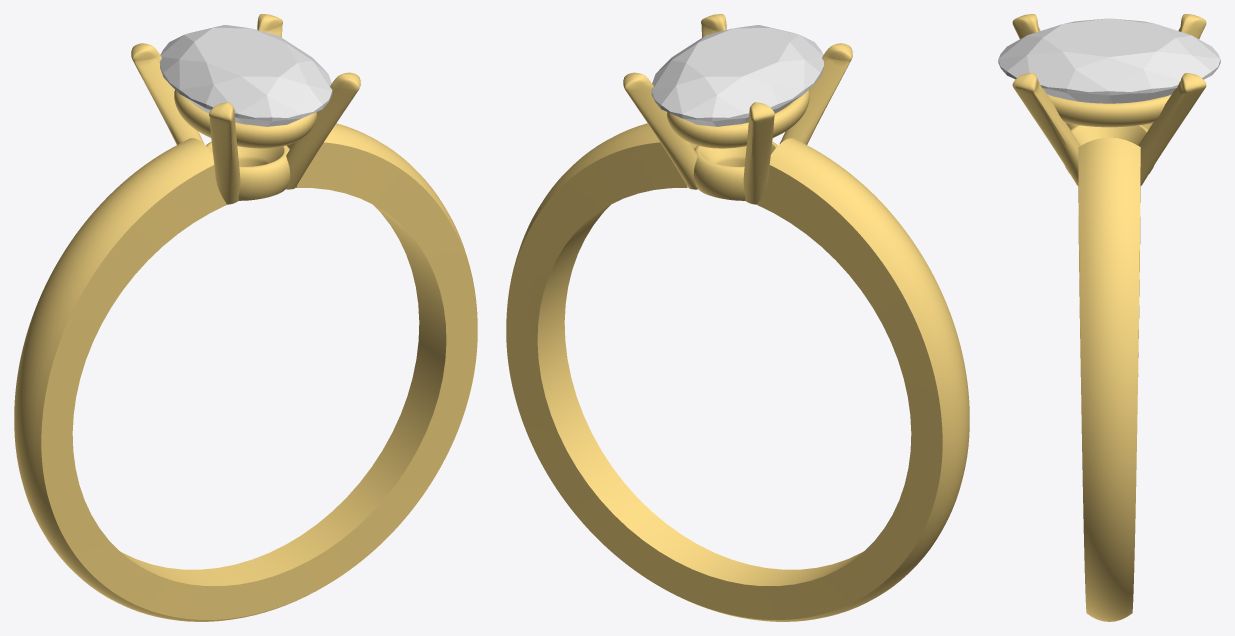
Rendered from ArtiYGclassic_blender.glb.
3 views of the same model, side by side, from view 1: azimuth 30°, elevation 25°; view 2: azimuth 150°, elevation 25°; view 3: azimuth 270°, elevation 25° (orthographic).
Parts seen in each view (by area): view 1: Arti YG for 3d model, Arti dia for 3d model; view 2: Arti YG for 3d model, Arti dia for 3d model; view 3: Arti YG for 3d model, Arti dia for 3d model.
Boxes of the visible parts, <box> form: Arti YG for 3d model: <box>14,14,477,621</box>; Arti dia for 3d model: <box>159,25,332,126</box>; Arti YG for 3d model: <box>506,14,969,621</box>; Arti dia for 3d model: <box>651,25,824,126</box>; Arti YG for 3d model: <box>1012,14,1206,621</box>; Arti dia for 3d model: <box>998,18,1220,103</box>.
Bounding box in the file's own units: 20.94 × 24.87 × 8.94.
